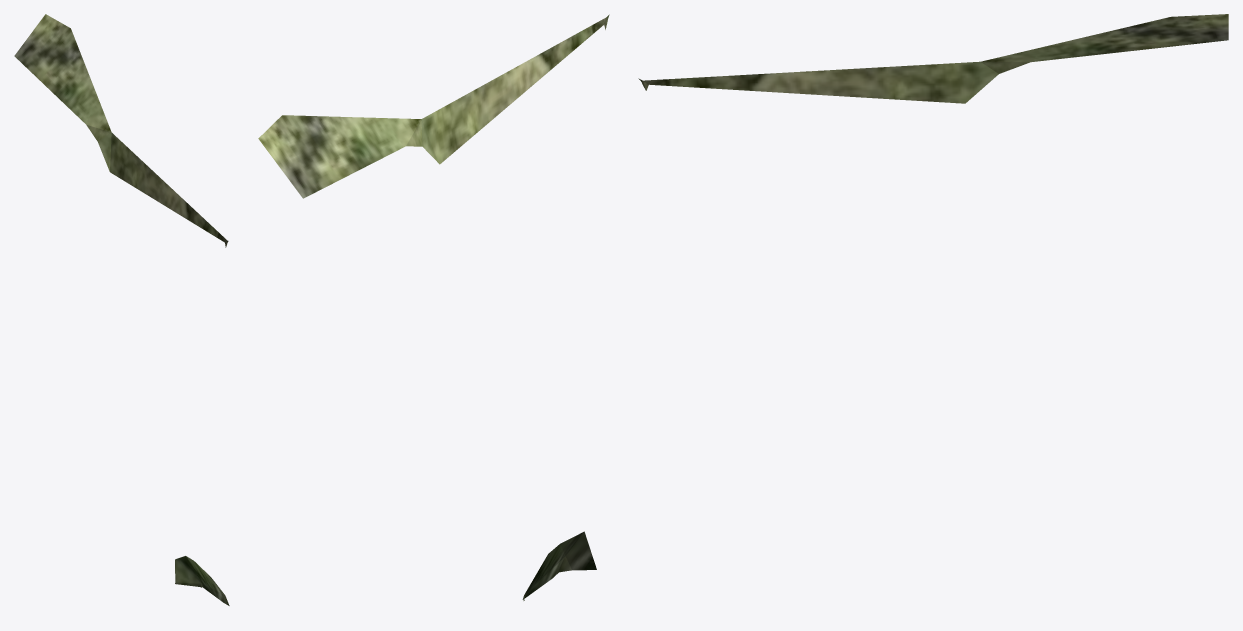
3 renders of one model, left to right at view 1: azimuth 30°, elevation 25°; view 2: azimuth 150°, elevation 25°; view 3: azimuth 270°, elevation 25°, orthographic. The views are drawn at different scales.
Size of the model in its own units: 0.4948 by 5.9 by 5.16.
1 material, 1 textured.
